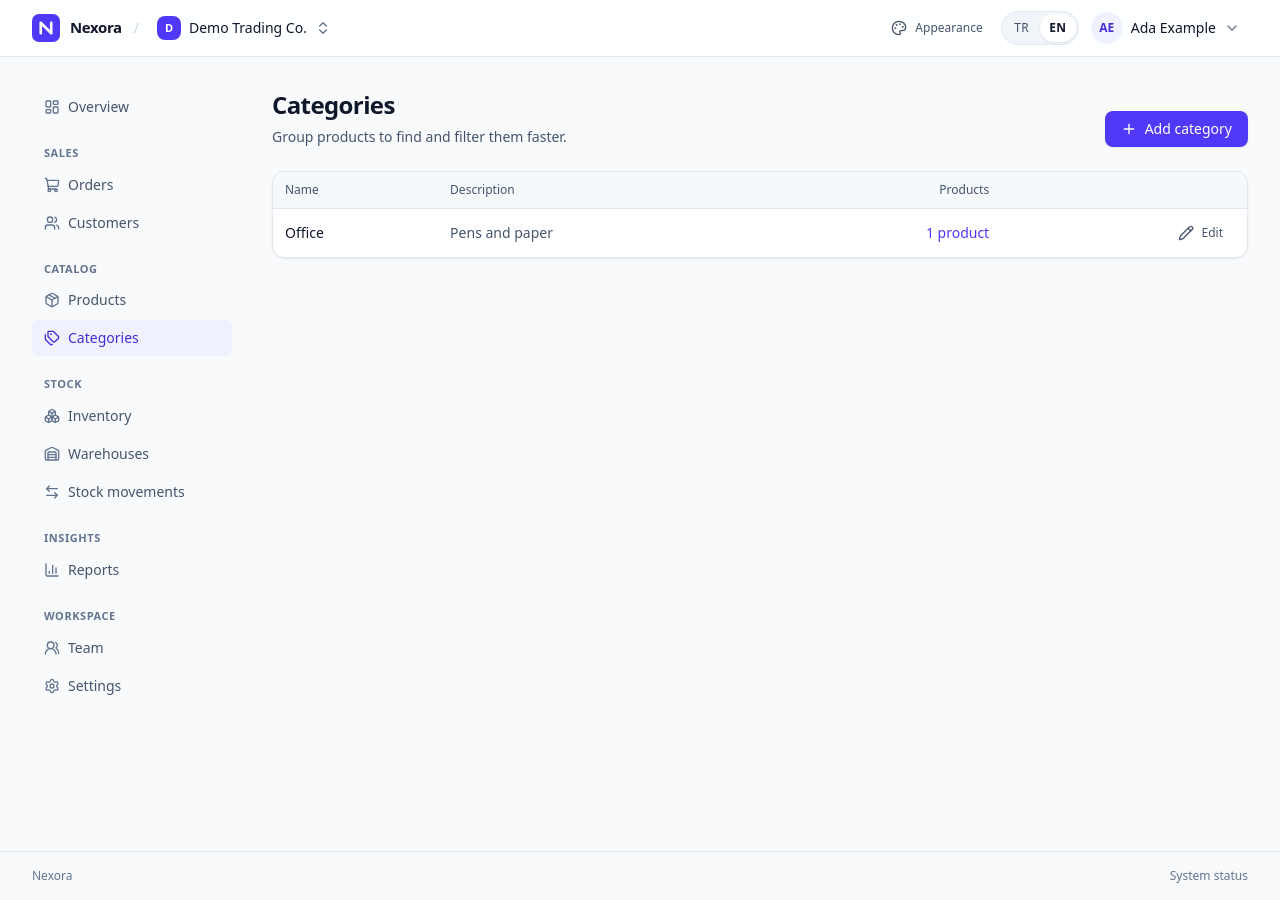
Test: CategoriesPage › creates a category in a dialog
Check: the heading "Categories" is shown, box 272,88 -> 395,121
Click the button "Add category".
click(1176, 129)  # box 1105,111 -> 1248,147
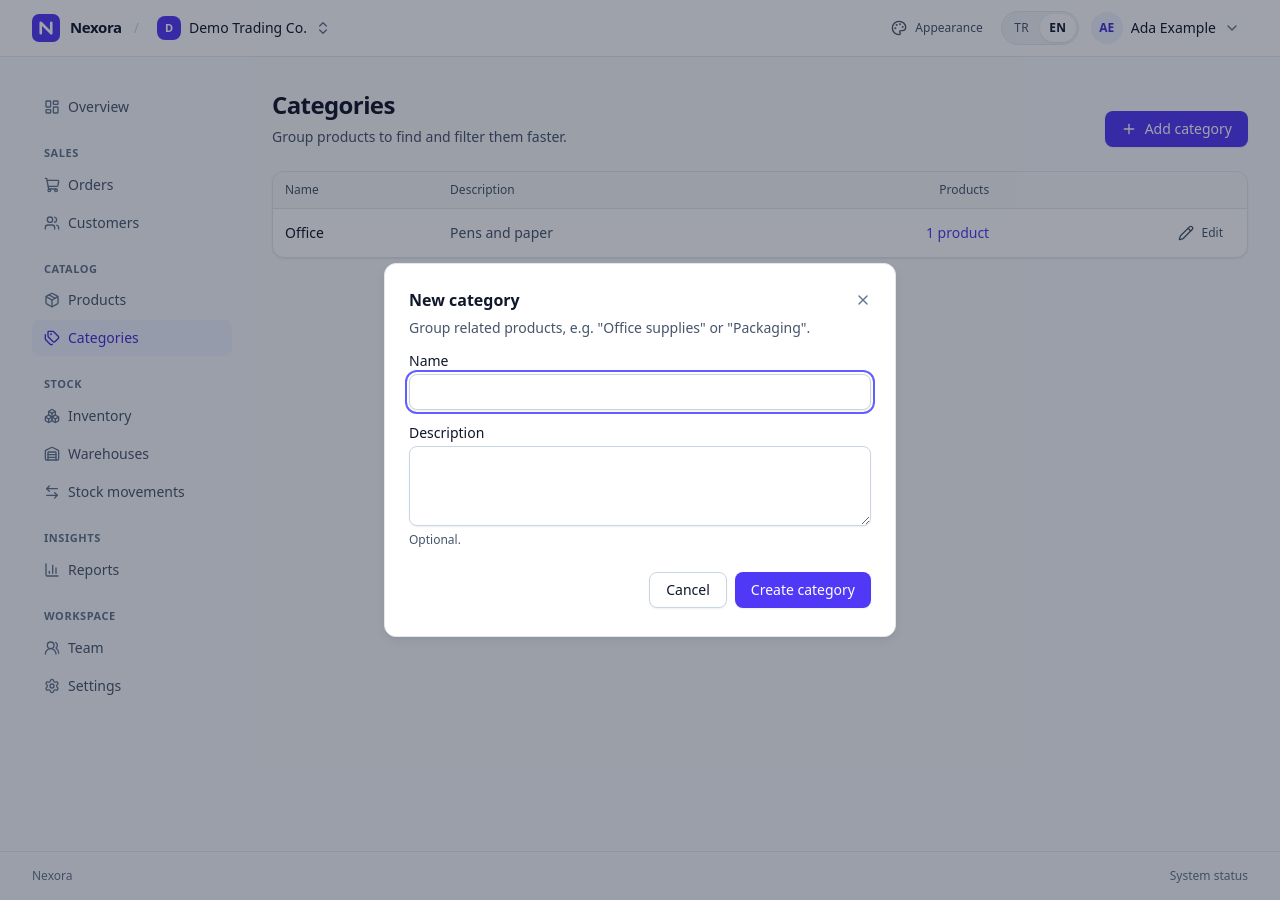
Type "  Packaging   boxes " into the field labelled "Name".
click(640, 392); type("  Packaging   boxes ")  # box 409,374 -> 871,410
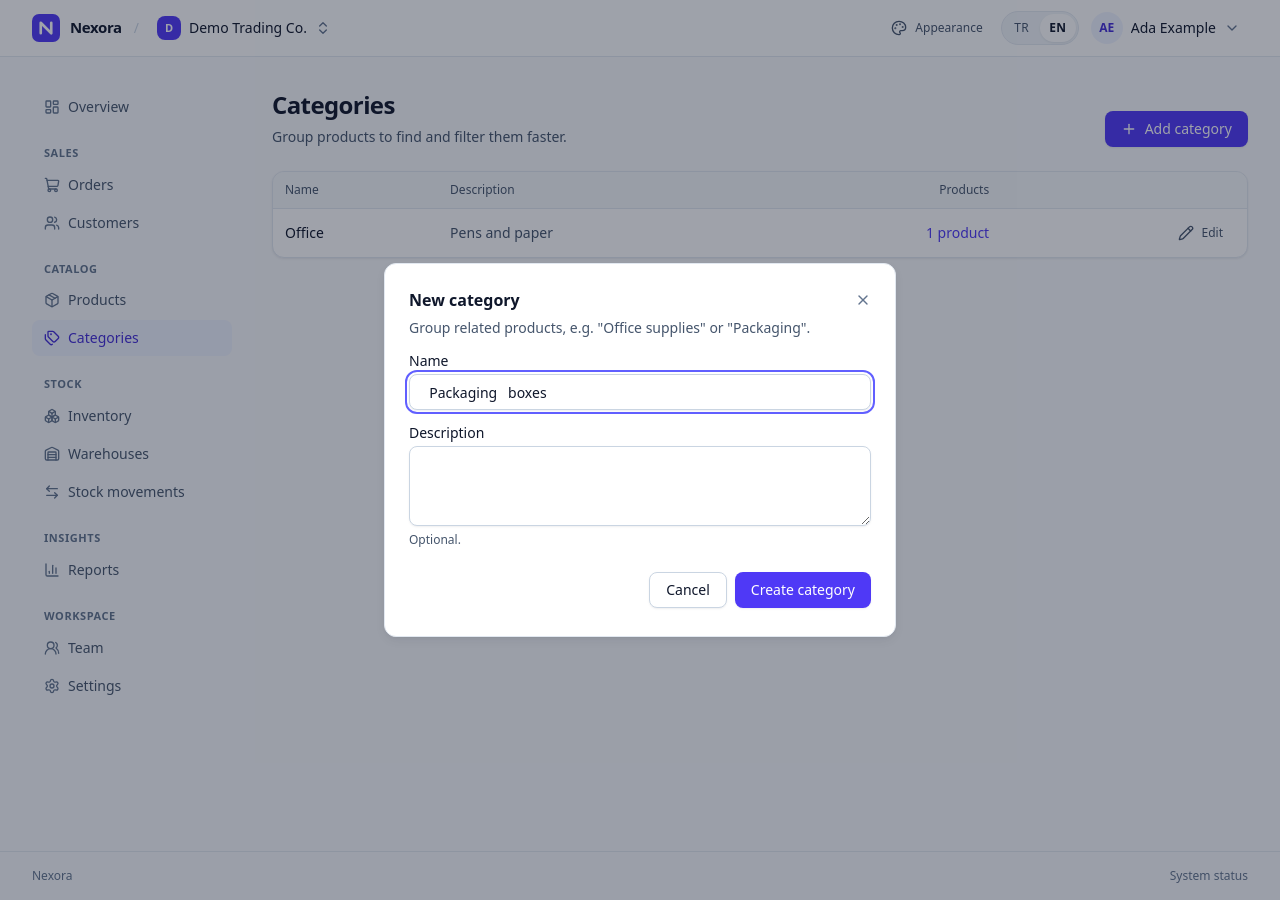
Click the button "Create category".
click(803, 590)  # box 735,572 -> 871,608
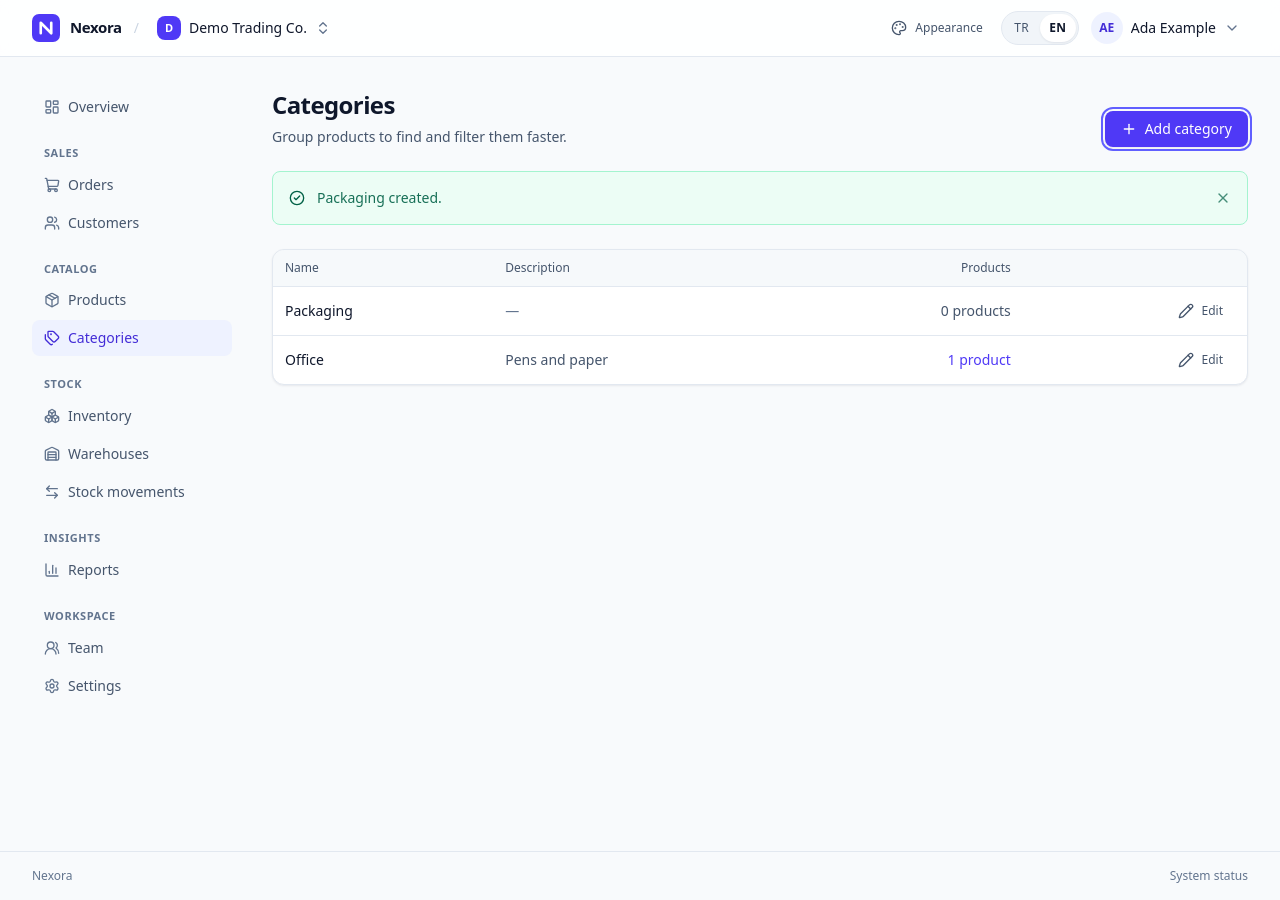
Check: the text "Packaging created." is shown, box 317,188 -> 442,207
Check: the dialog is gone
Check: the text "Packaging" is shown, box 273,286 -> 493,336
